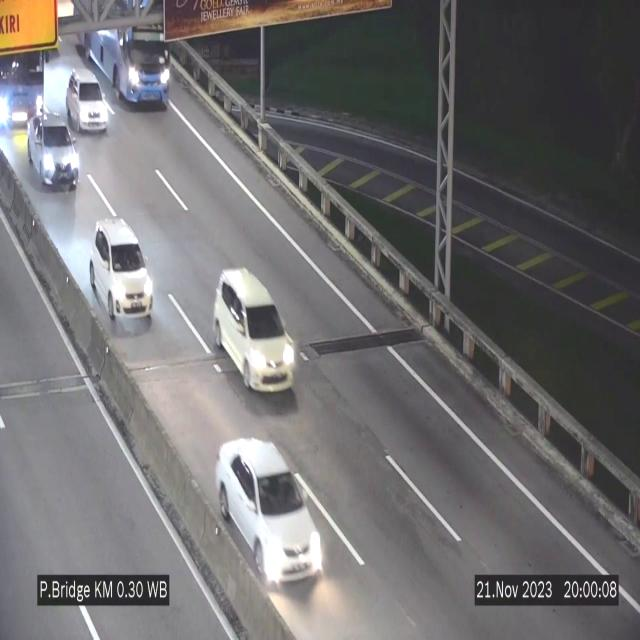Bus: (66, 0, 174, 113), (0, 7, 60, 149)
Car: (215, 439, 322, 584), (214, 269, 295, 391), (89, 218, 153, 332), (28, 112, 80, 188), (66, 69, 110, 132)
